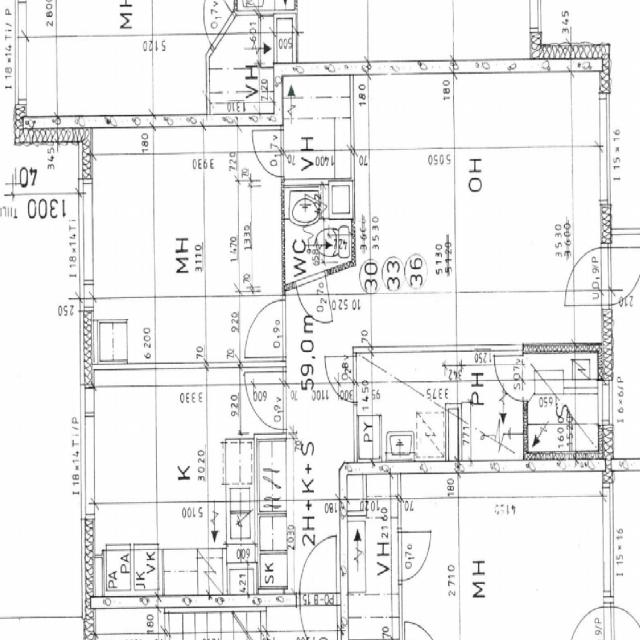door: (562, 248, 610, 304), (300, 536, 336, 606), (294, 270, 332, 331), (599, 248, 640, 304), (244, 299, 284, 356), (244, 372, 284, 428), (300, 593, 336, 640), (494, 355, 528, 400), (324, 356, 357, 402), (252, 131, 284, 175)
